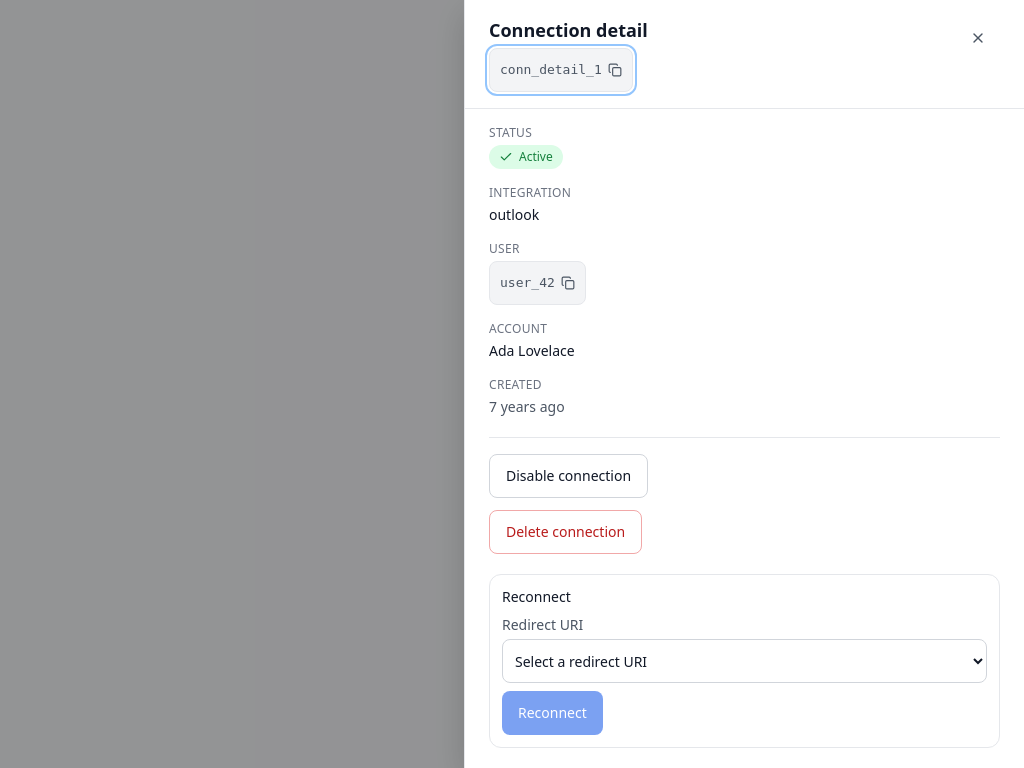
Test: ConnectionDrawer › reconnect posts the chosen redirect URI and surfaces the new redirectUrl
Expected: the heading "Connection detail" is shown, [489,16,648,44]
Select "https://consumer.example.com/callback" in the dropdown labelled "Redirect URI" at {"x": 744, "y": 661}, box [502,639,987,683]
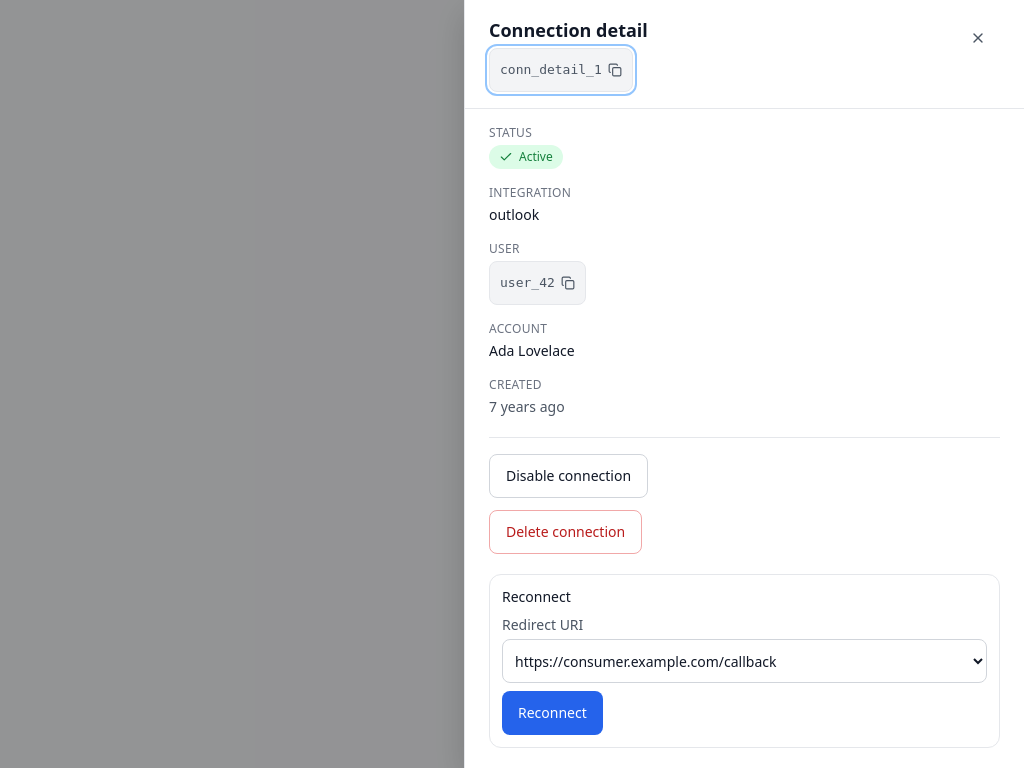
Click the button "Reconnect" at {"x": 552, "y": 713}, box [502,691,603,735]
(page scrolled)
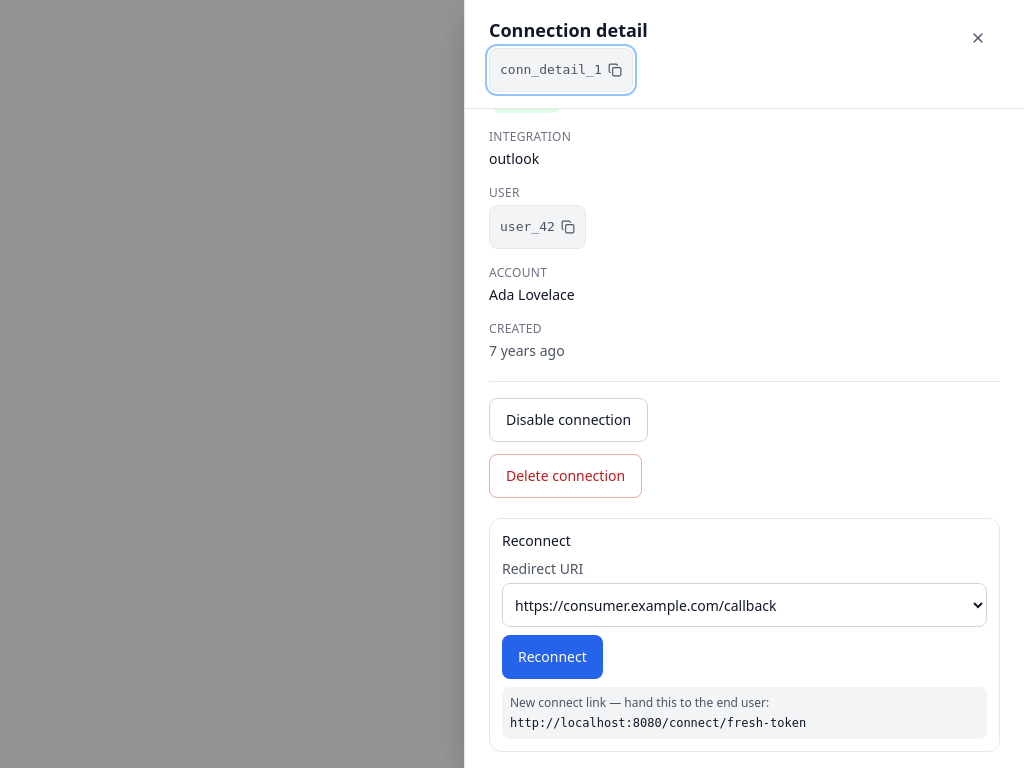
Expected: the text "http://localhost:8080/connect/fresh-token" is shown, [510,716,806,730]
